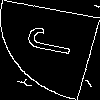J: (25, 24, 85, 60)
